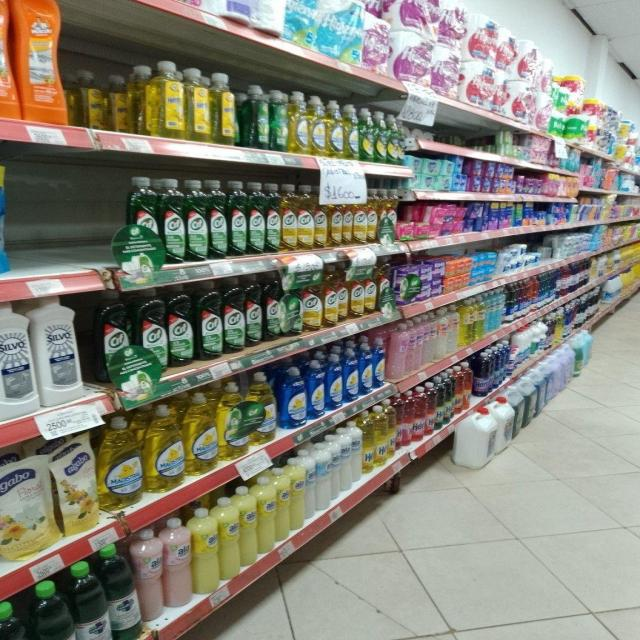ala_crem_amarillo: (220, 494, 240, 582)
cif_conc_bot_amarilla: (302, 271, 322, 332), (281, 183, 297, 252), (297, 184, 313, 251), (323, 264, 339, 328), (349, 264, 364, 319), (314, 187, 327, 250), (328, 190, 342, 248), (353, 192, 366, 245), (364, 264, 377, 314), (377, 263, 390, 313), (338, 264, 348, 324), (367, 190, 378, 244), (378, 190, 389, 244), (343, 192, 353, 246)
cif_conc_botella_verde: (94, 289, 133, 392), (125, 175, 159, 268), (134, 287, 166, 378), (167, 283, 194, 365), (160, 178, 185, 264), (196, 279, 222, 359), (186, 180, 208, 262), (223, 276, 244, 353), (209, 180, 227, 260), (264, 272, 284, 341), (229, 180, 247, 256), (248, 181, 265, 255), (245, 274, 262, 346), (285, 272, 301, 337), (266, 183, 280, 253)
heroe: (147, 60, 185, 139), (210, 71, 237, 145), (186, 66, 210, 142)
magistral_con_amarillo: (98, 415, 143, 511), (145, 404, 184, 493), (186, 390, 217, 476), (247, 371, 277, 445), (289, 91, 308, 155), (326, 100, 344, 158), (309, 95, 326, 156), (344, 102, 359, 160)
magistral_con_azul: (279, 366, 306, 430), (307, 358, 324, 419), (325, 352, 342, 412)
